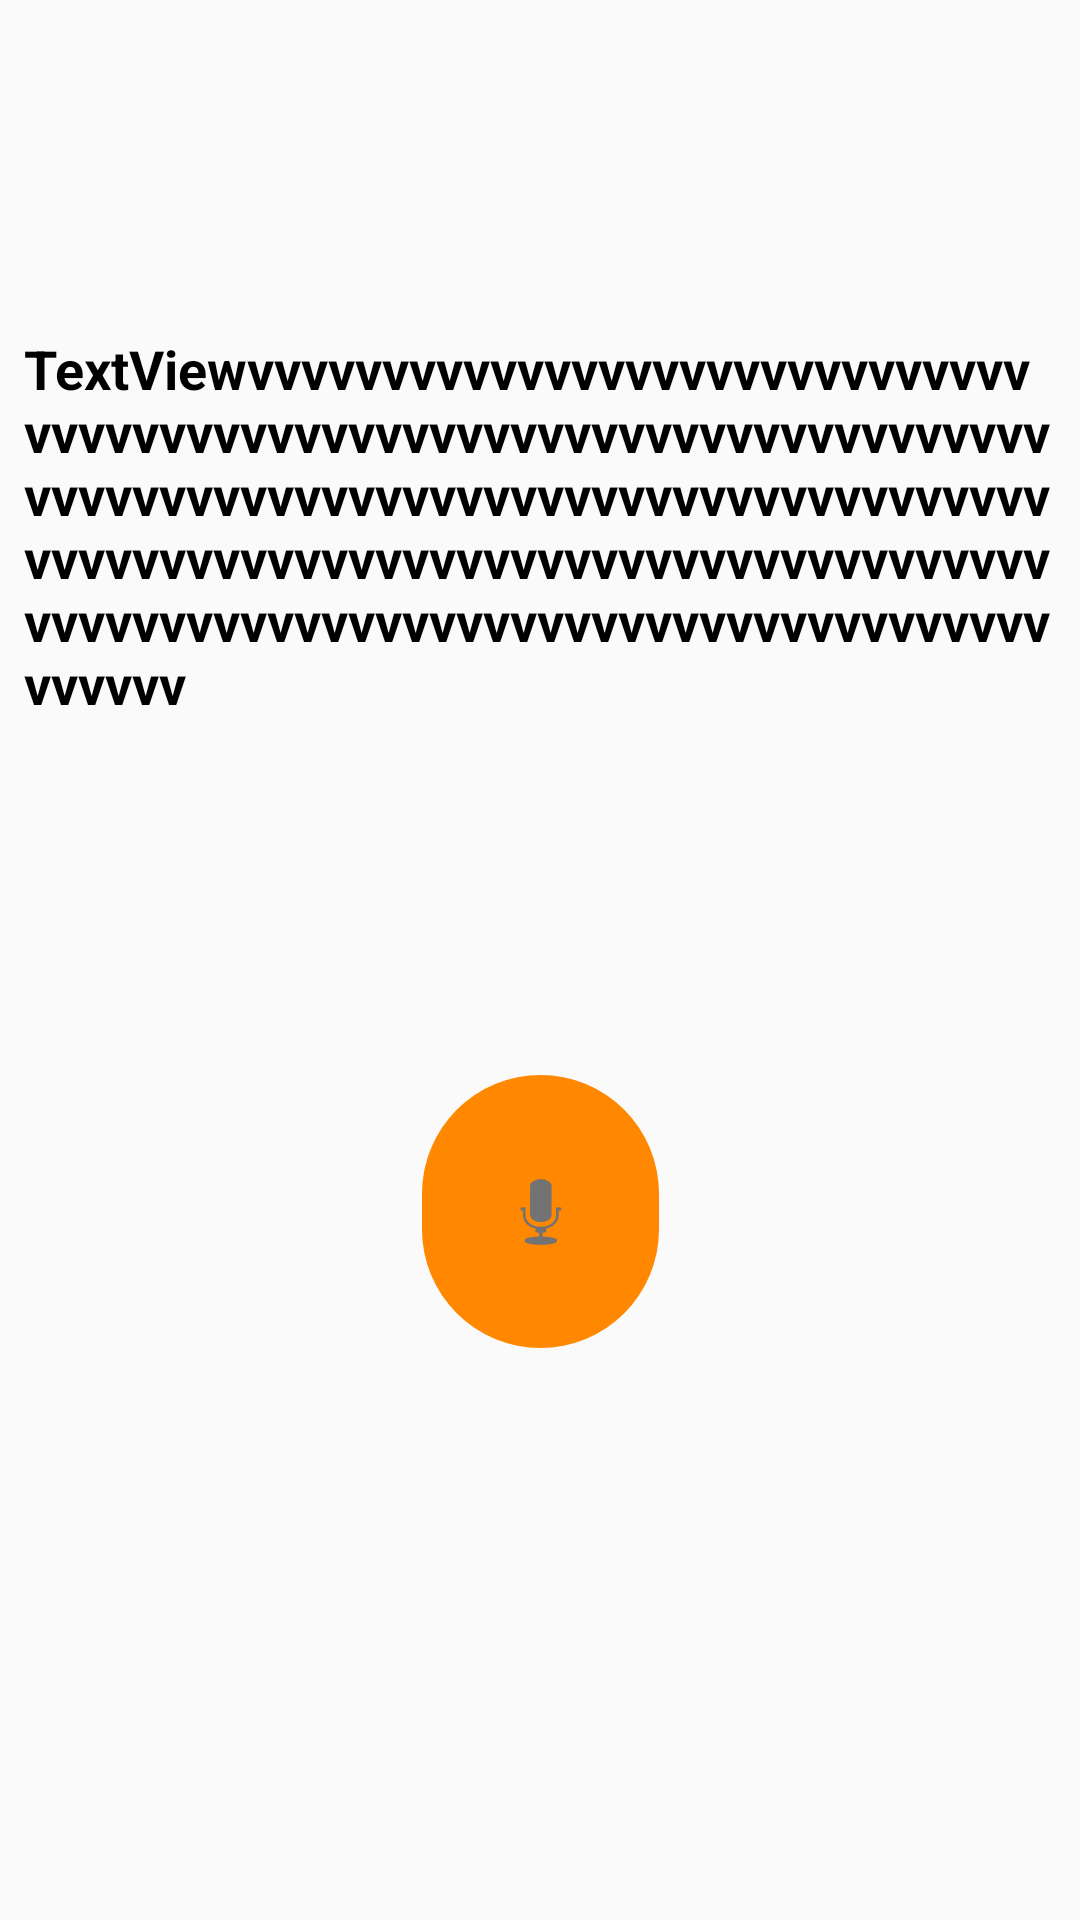

Icon bounding boxes for this 1080x1920 phone screenshot, format [x1=x1, y1=y1, x2=x2, y2=y2]:
speak now: [x1=422, y1=1075, x2=659, y2=1348]
